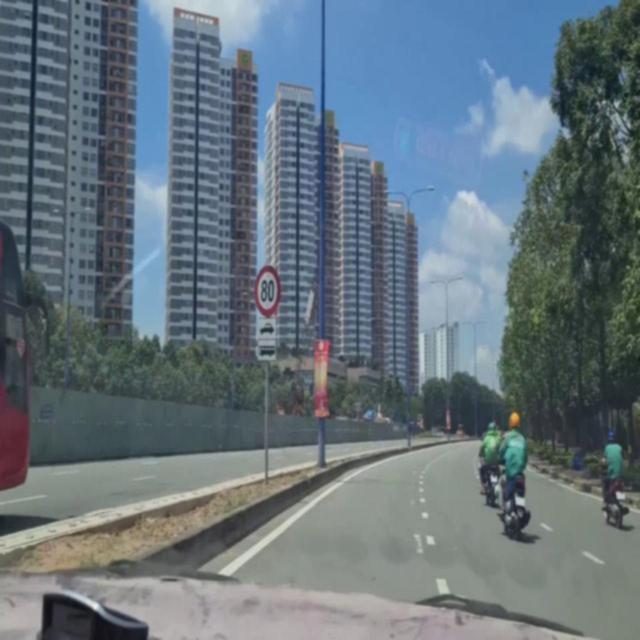Biển phụ: (255, 318, 276, 362)
Giới hạn tốc độ 80Km/h: (249, 262, 281, 315)
